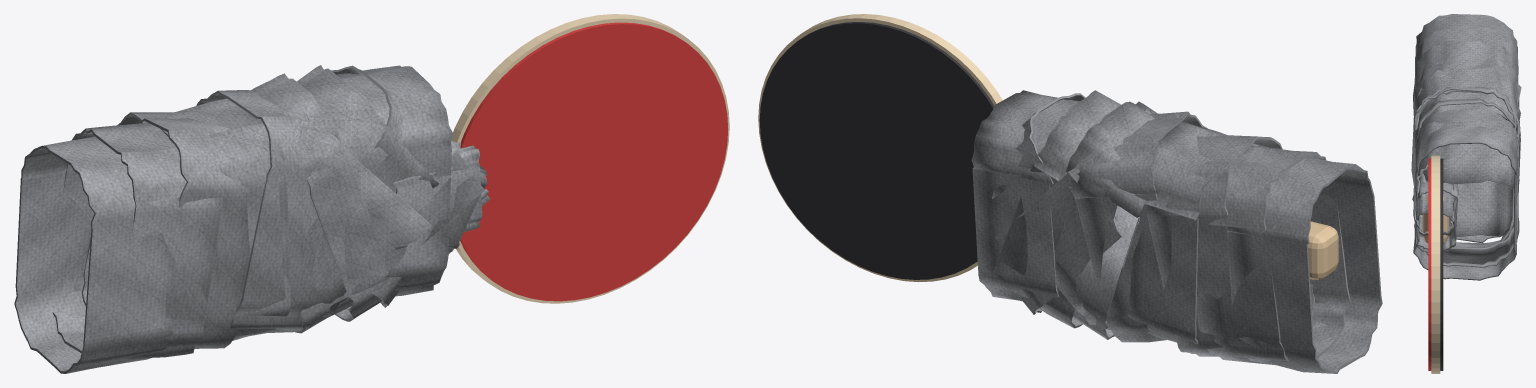
File: bat.glb
3 renders of one model, left to right at view 1: azimuth 30°, elevation 25°; view 2: azimuth 150°, elevation 25°; view 3: azimuth 270°, elevation 25°, orthographic. The views are drawn at different scales.
Visible parts, largest first — view 1: taped bat; view 2: taped bat; view 3: taped bat.
Boxes of the visible parts, x1,y1,x2,y2 form: taped bat: (14, 14, 729, 373); taped bat: (758, 14, 1382, 373); taped bat: (1411, 14, 1521, 373).
Size of the model in its own units: 0.3641 by 0.146 by 0.0746.
Materials: 5 (1 with a texture image).
